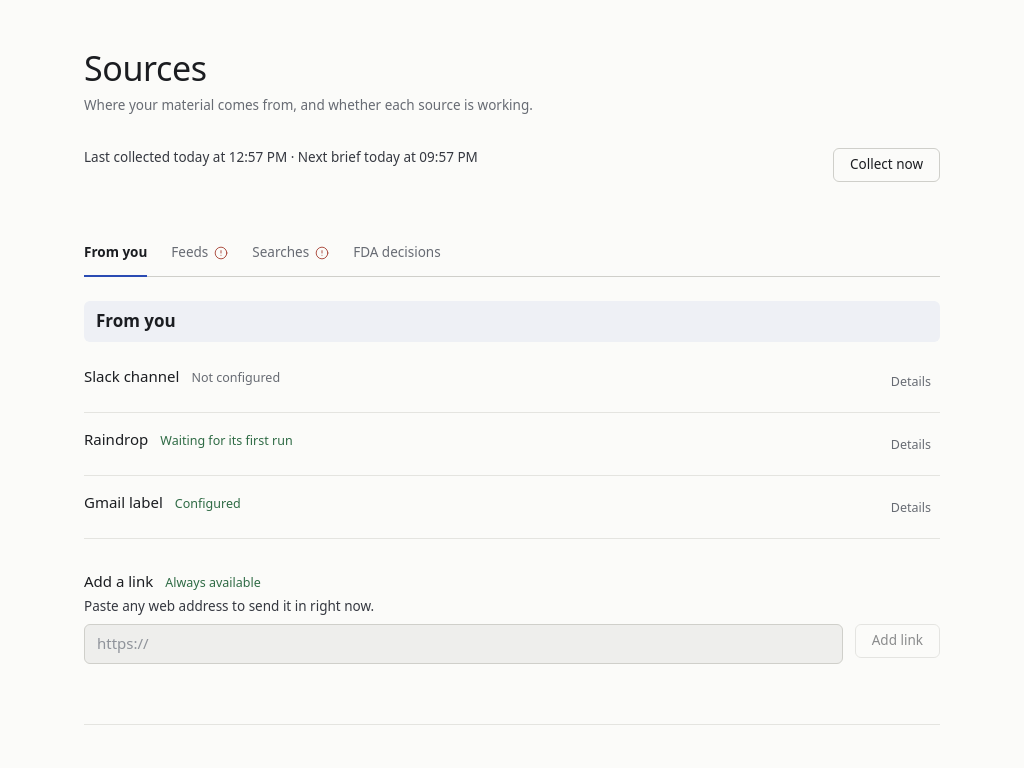
Scenario: SourcesPage › puts an alert on the Feeds tab and a mark on the failing feed, and none on a switched-off feed
The image size is (1024, 768).
Expected: the picture named "1 feed is failing" is shown, [214, 246, 228, 260]
Click the tab "Feeds": [200, 254] box [171, 231, 228, 277]
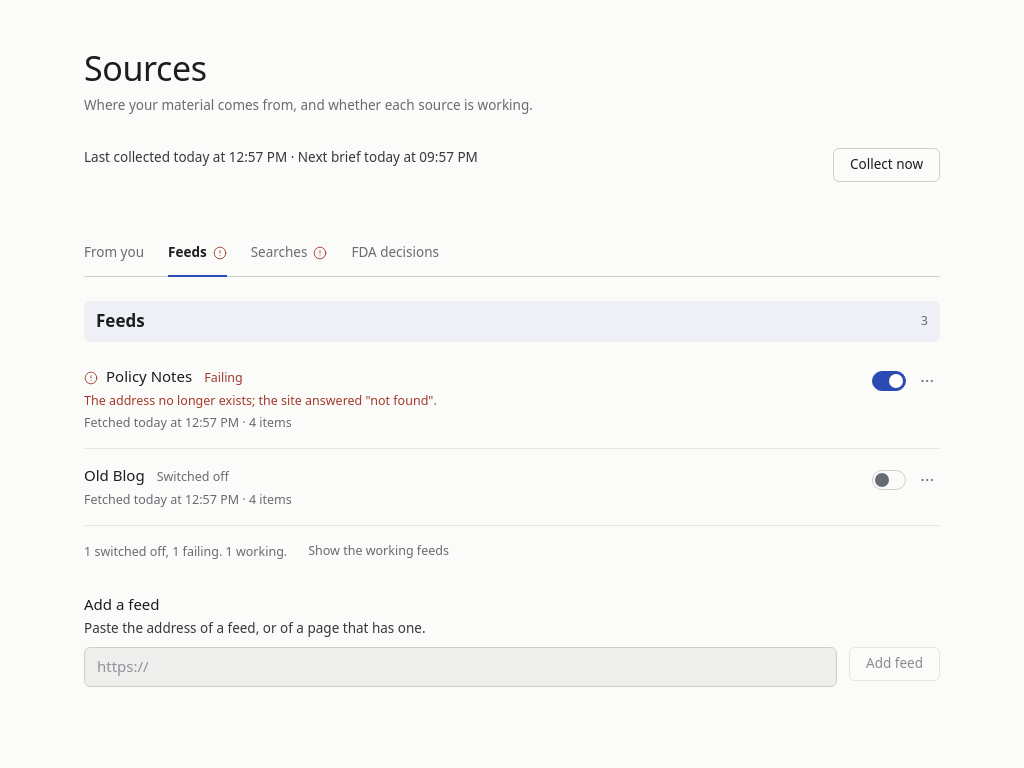
Result: the text "The address no longer exists; the site answered \"not found\"." is shown at [84, 392, 437, 408]
Result: the text "Switched off" is shown at [157, 468, 229, 486]
Result: the number of pictures named "This feed is failing" is 1 at [84, 371, 98, 385]
